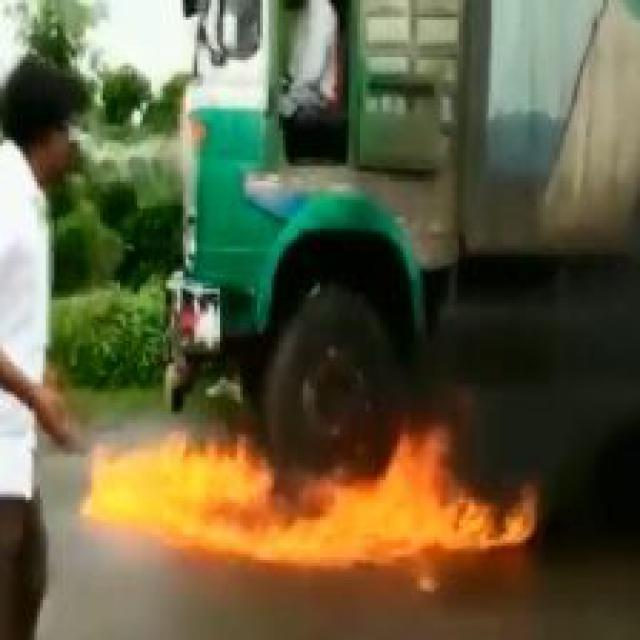fire: (83, 368, 568, 603)
